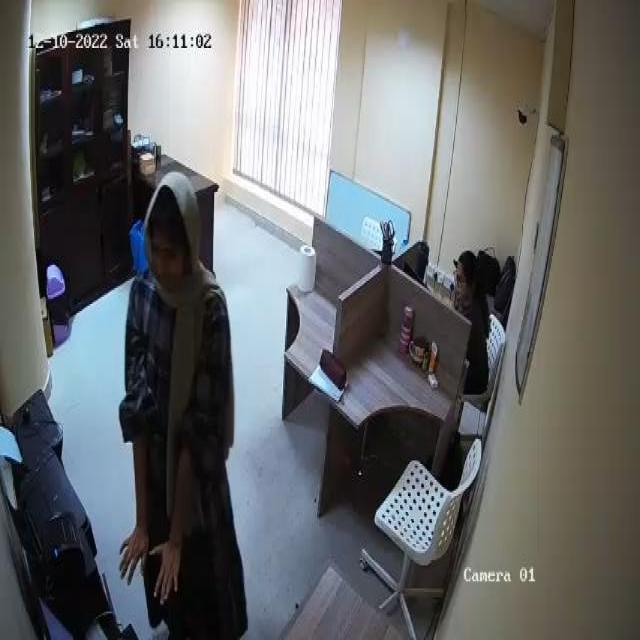bare_hand: (150, 533, 184, 612), (117, 517, 148, 587)
